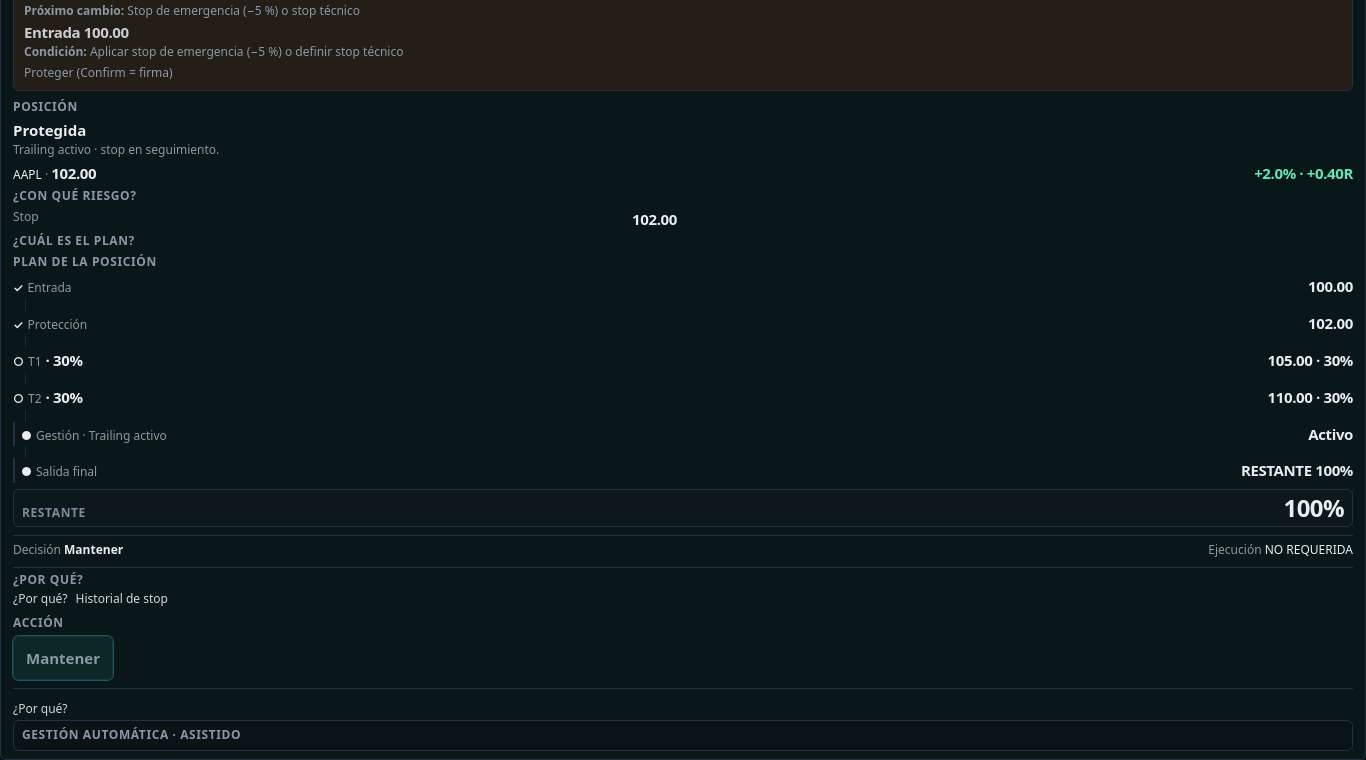
Test case: OperativaCockpitCard POV star card V1.60 › GP-V160-03/04: stop history colapsable con data-testid
This screenshot has width=1366, height=760.
(page scrolled)
Click the button with test id "operativa-cockpit-stop-history-toggle": (122, 599) [76, 590, 168, 607]
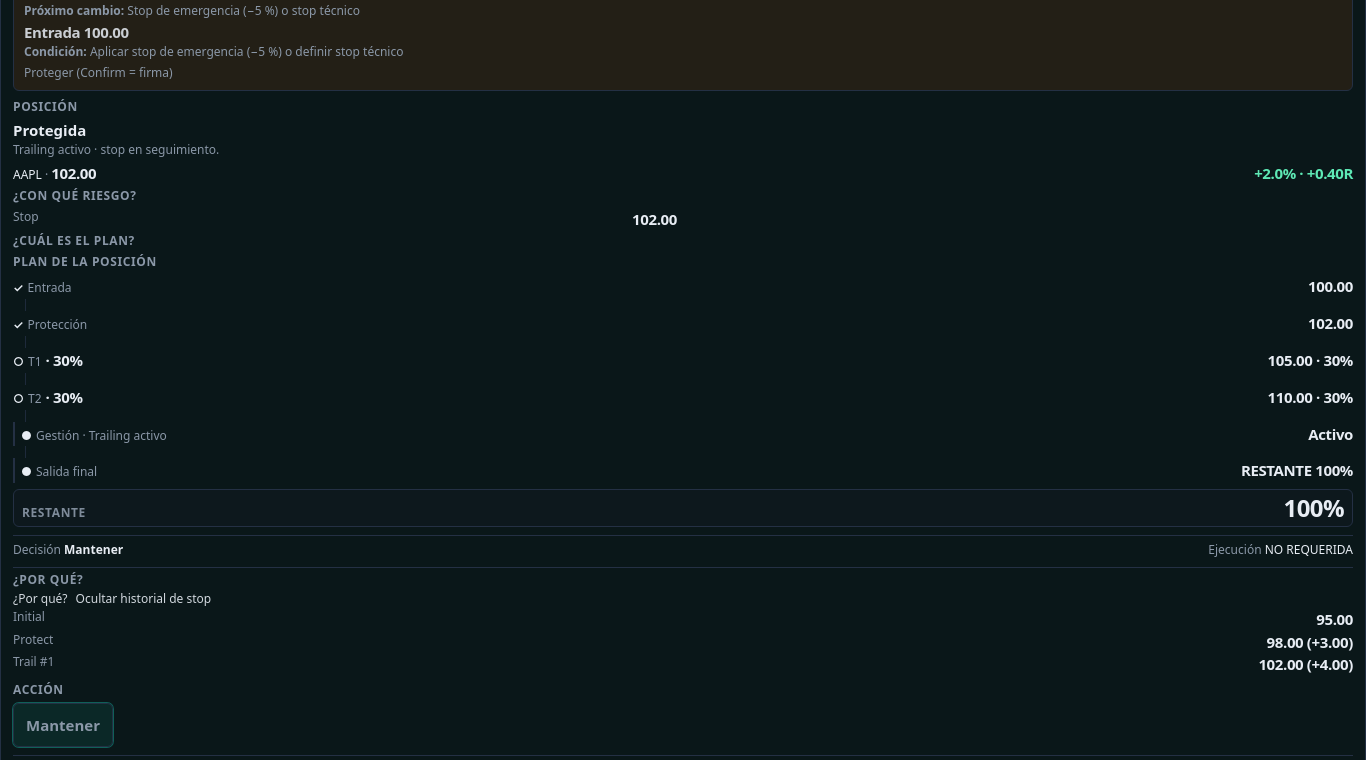
Expected: the list with test id "operativa-cockpit-stop-history" shows "Protect", [13, 631, 53, 648]
Expected: the list with test id "operativa-cockpit-stop-history" shows "Trail #1", [13, 653, 54, 670]
Expected: the list with test id "operativa-cockpit-stop-history" shows "102.00", [1258, 654, 1303, 674]
